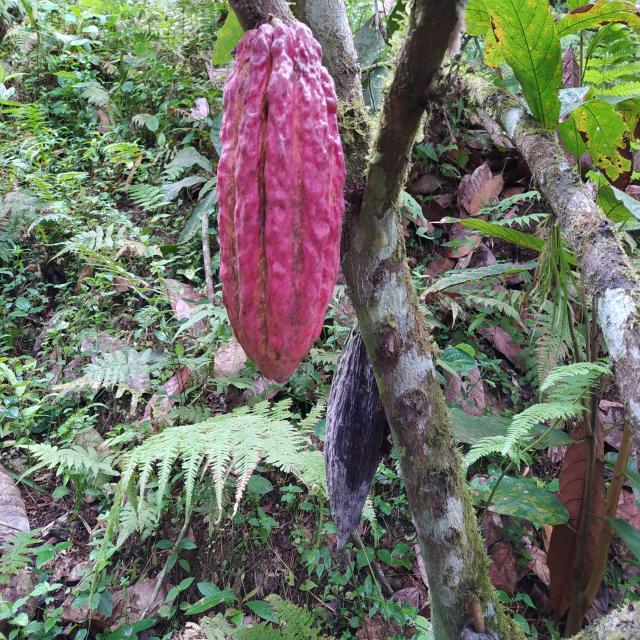Fitoftora: (323, 314, 384, 553)
Sana: (216, 20, 344, 384)
